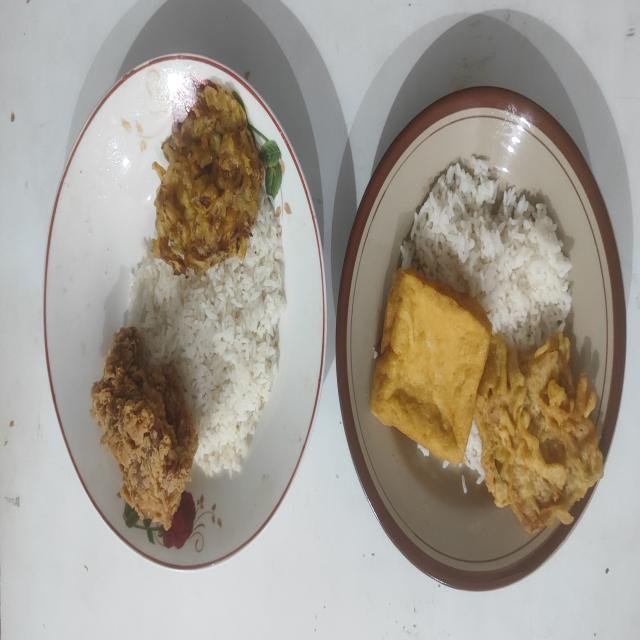nasi_putih: (126, 189, 286, 476), (401, 156, 571, 349), (464, 419, 484, 484)
tahu_goreng: (370, 270, 492, 464)
